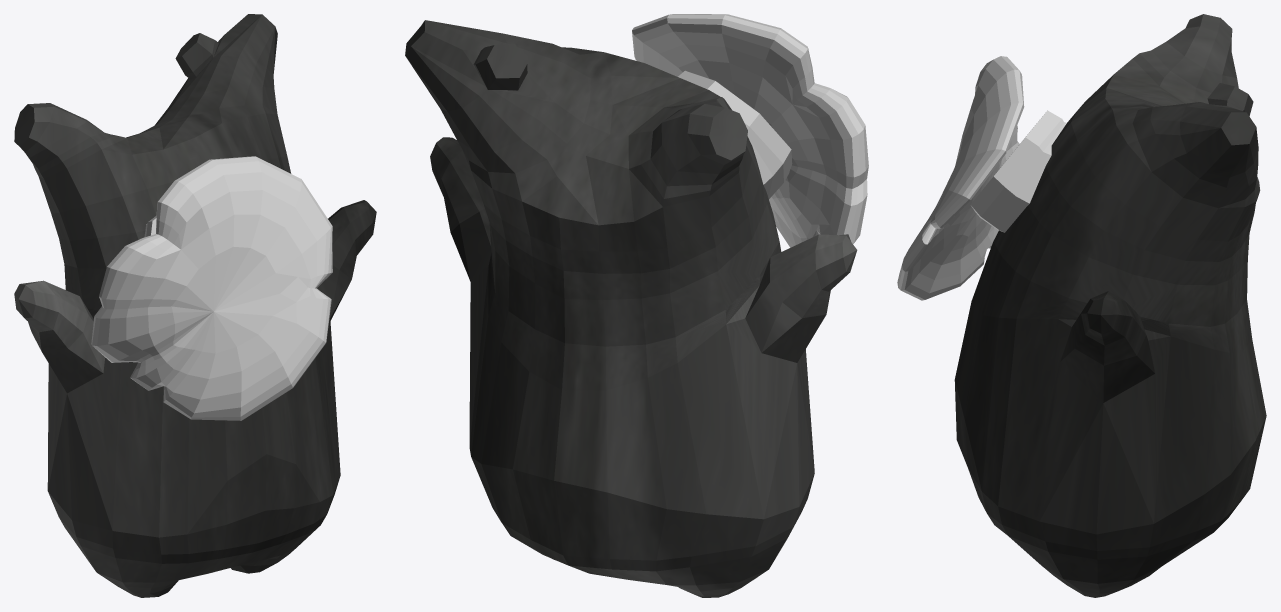
The model's file is frame_0013.obj.
3 renders of one model, left to right at view 1: azimuth 30°, elevation 25°; view 2: azimuth 150°, elevation 25°; view 3: azimuth 270°, elevation 25°, orthographic. The views are drawn at different scales.
Visible parts, largest first — view 1: korok, leaf; view 2: korok, leaf, nose; view 3: korok, leaf, nose.
Part boxes in pixels (x1=…): korok: x1=14, y1=14, x2=376, y2=597; leaf: x1=91, y1=156, x2=332, y2=420; korok: x1=405, y1=20, x2=857, y2=597; leaf: x1=632, y1=14, x2=868, y2=247; nose: x1=678, y1=70, x2=792, y2=198; korok: x1=954, y1=14, x2=1266, y2=597; leaf: x1=897, y1=56, x2=1024, y2=300; nose: x1=970, y1=110, x2=1066, y2=232.
Size of the model in its own units: 1.63 by 2.14 by 1.37.
